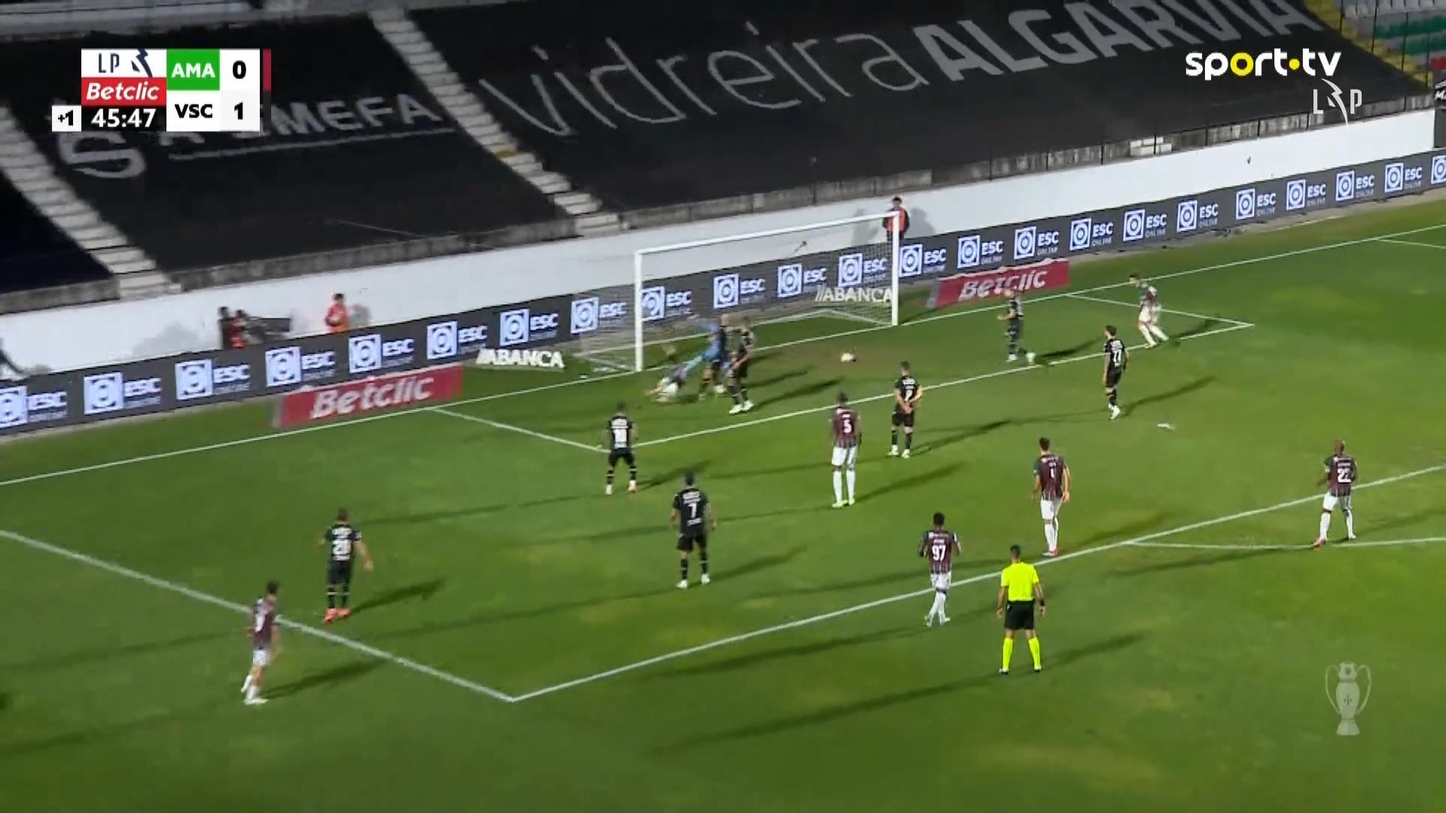ball: (840, 352, 856, 362)
goalkeeper: (688, 321, 718, 399)
player: (318, 506, 374, 623), (668, 470, 716, 589), (239, 580, 282, 705), (1311, 438, 1358, 548), (917, 511, 961, 627), (1030, 436, 1071, 557), (827, 391, 862, 508), (886, 359, 923, 458), (602, 400, 639, 495), (725, 316, 756, 413), (643, 345, 688, 403), (1101, 324, 1128, 420), (1133, 277, 1169, 349), (996, 287, 1030, 362), (716, 312, 735, 396)
referee: (994, 544, 1046, 674)
